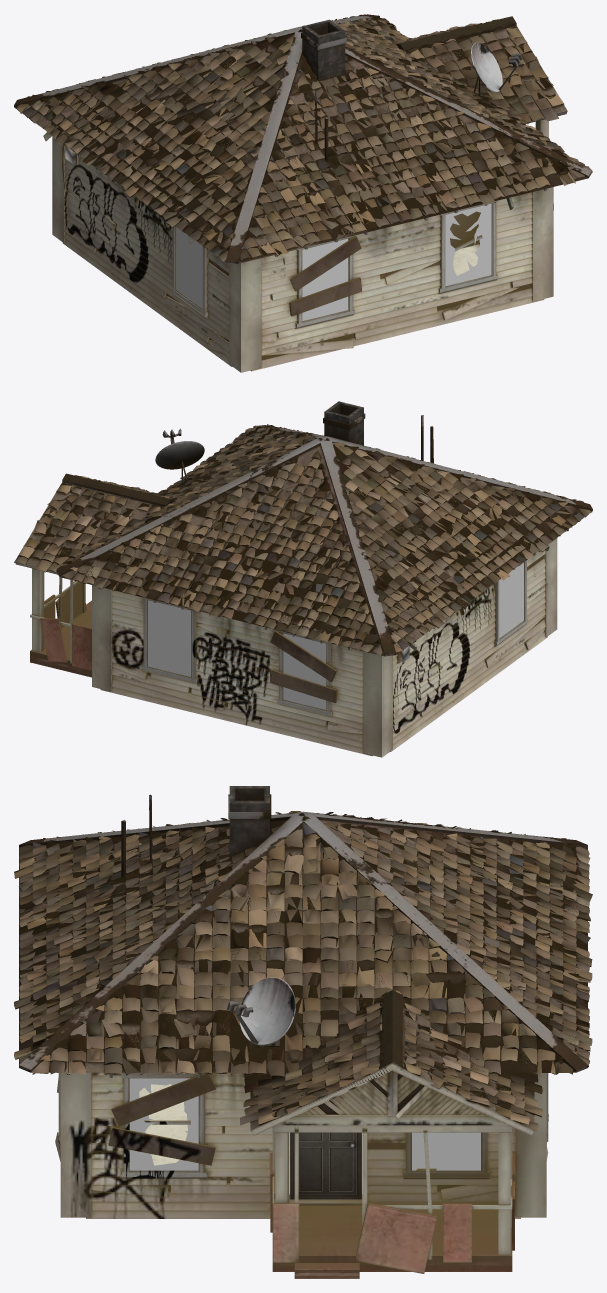
Rendered from abandoned-house-3.glb.
3 renders of one model, top to bottom at view 1: azimuth 30°, elevation 25°; view 2: azimuth 150°, elevation 25°; view 3: azimuth 270°, elevation 25°, orthographic. The views are drawn at different scales.
Visible parts, largest first — view 1: roof_roof_0, main_main_0, accs_accs_0, windows_Arnold Shader Network_0, windows_windows_0; view 2: roof_roof_0, main_main_0, accs_accs_0, windows_Arnold Shader Network_0, windows_windows_0; view 3: roof_roof_0, main_main_0, accs_accs_0, windows_Arnold Shader Network_0, door_door_0, windows_windows_0.
Part boxes in pixels (x1,y1,x2,y2): roof_roof_0: (16,14,592,261); main_main_0: (52,96,553,372); accs_accs_0: (14,14,591,263); windows_Arnold Shader Network_0: (176,203,491,320); windows_windows_0: (172,200,498,328); roof_roof_0: (14,424,591,655); main_main_0: (30,538,557,757); accs_accs_0: (15,401,592,656); windows_Arnold Shader Network_0: (148,562,523,709); windows_windows_0: (142,560,527,716); roof_roof_0: (14,811,592,1131); main_main_0: (55,1071,548,1278); accs_accs_0: (19,786,587,1135); windows_Arnold Shader Network_0: (129,1078,480,1170); door_door_0: (290,1132,361,1199); windows_windows_0: (58,1072,548,1178).
Bounding box in the file's own units: 10.39 × 5.86 × 9.31.
Materials: 6 (5 with a texture image).
